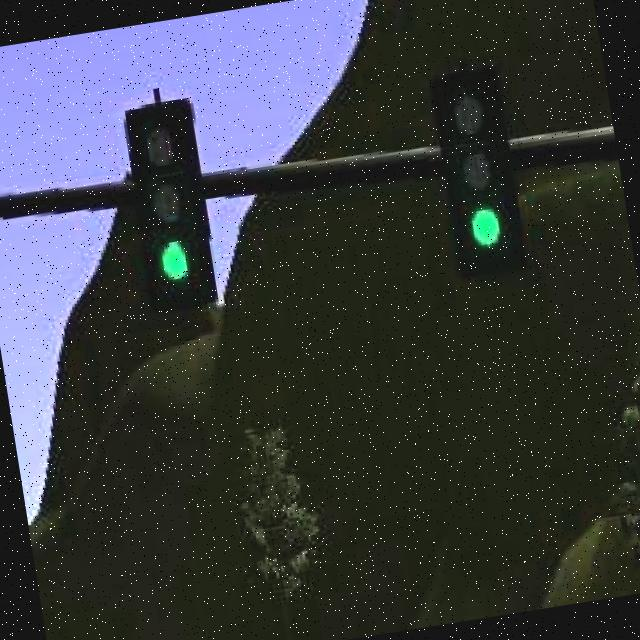Zielone swiatlo: (436, 69, 532, 274), (124, 96, 215, 306)
